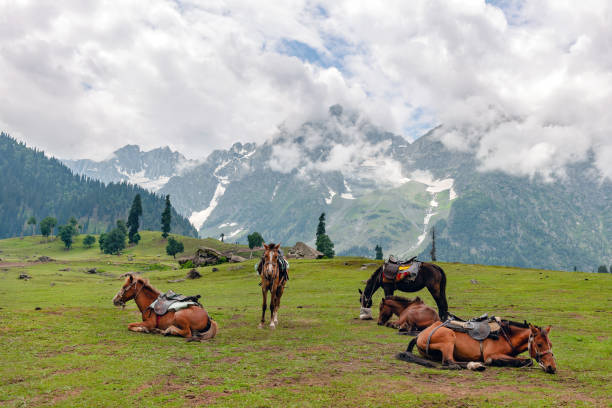Horse: (98, 271, 236, 356), (342, 253, 472, 336), (246, 235, 298, 348)
